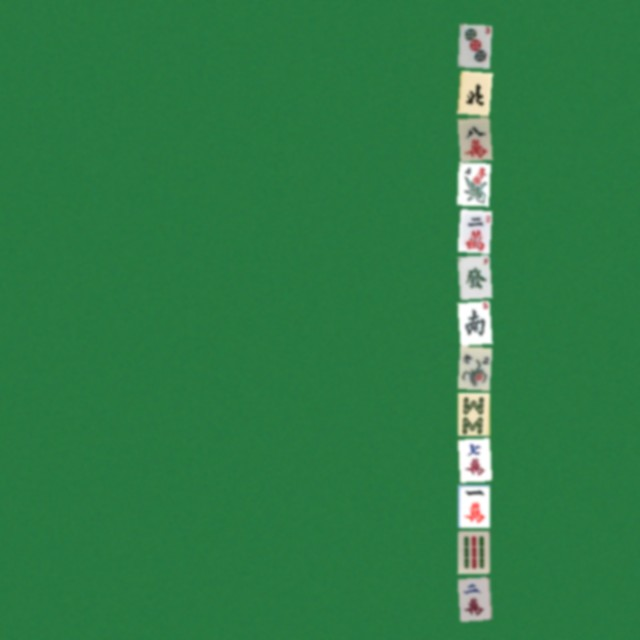tile: (457, 24, 489, 67), (457, 70, 489, 113), (457, 116, 489, 159), (457, 162, 489, 205), (457, 208, 489, 251), (457, 254, 489, 297), (457, 300, 489, 343), (457, 346, 489, 389), (457, 392, 489, 435), (457, 438, 489, 481), (457, 484, 489, 527), (457, 530, 489, 573), (457, 576, 489, 619)
